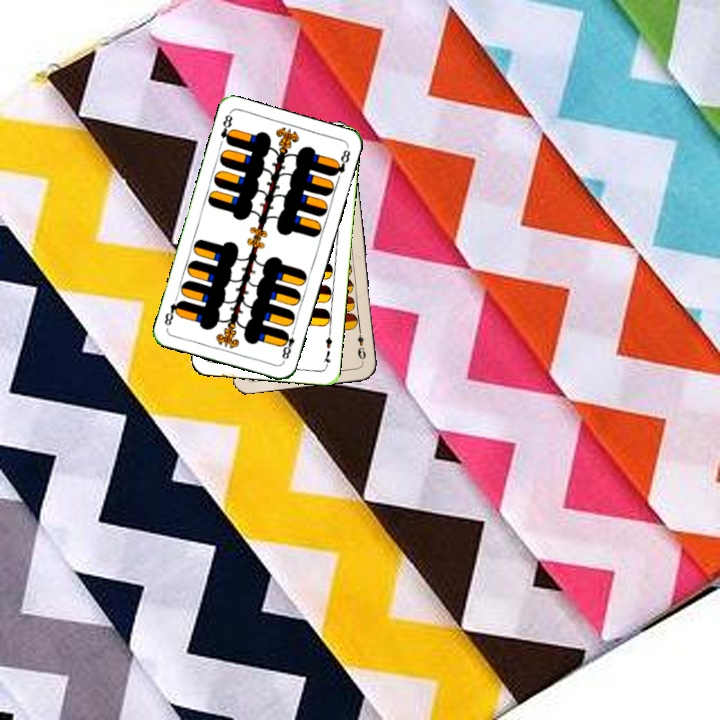E7: (319, 328, 335, 369)
E8: (277, 325, 297, 362), (216, 110, 236, 147)
E9: (354, 324, 368, 362)
